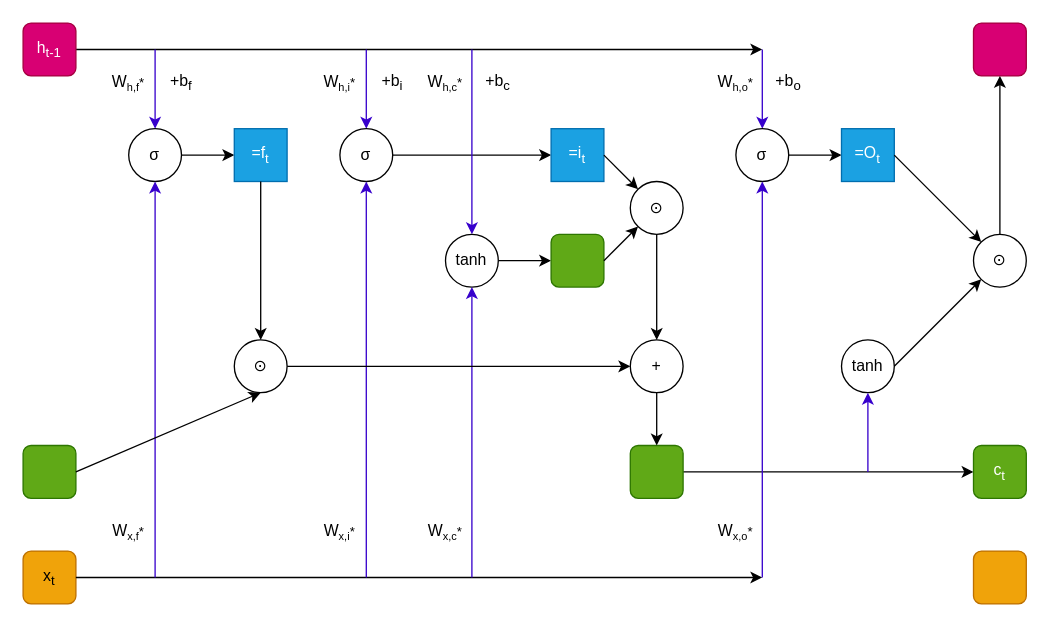
Some shapes in this 1049 by 627 pixel diagram are drawn without their labels. Each missing label, with the box of its shape:
=c t: (629, 444, 683, 498)
c t-1: (22, 444, 76, 498)
h t: (972, 22, 1026, 76)
x t+1: (972, 550, 1026, 604)
˜c t: (550, 233, 604, 287)
